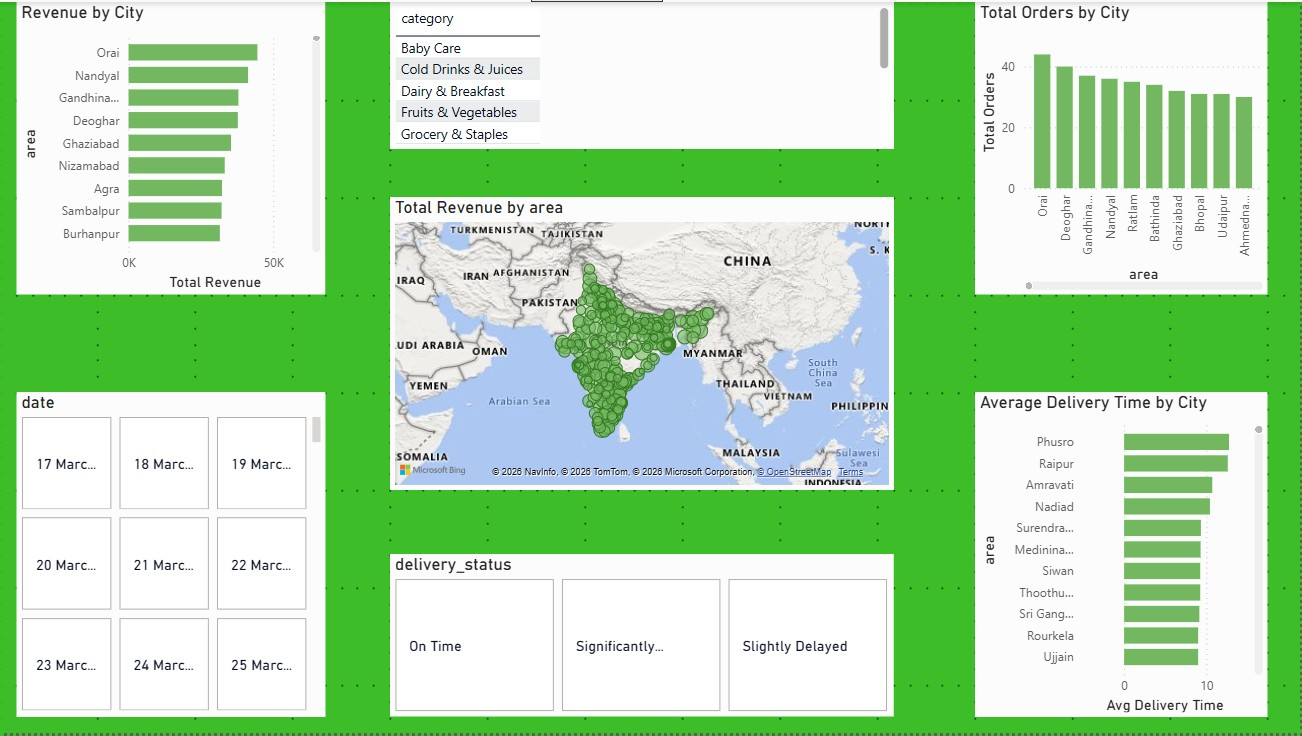

The dashboard page shown, as its layout file describes it:
{"tool":"powerbi","page":{"name":"City Performance","canvas":[1280,720],"ordinal":1},"visuals":[{"type":"barChart","title":"Revenue by City","fields":{"Category":["blinkit_customers.area"],"Y":["Measures (2).Total Revenue"]},"box":[16,0,304,288],"z":0},{"type":"columnChart","title":"Total Orders by City","fields":{"Category":["blinkit_customers.area"],"Y":["Measures (2).Total Orders"]},"box":[960,0,288,288],"z":1},{"type":"barChart","title":"Average Delivery Time by City","fields":{"Category":["blinkit_customers.area"],"Y":["Measures (2).Avg Delivery Time"]},"box":[960,384,288,320],"z":2},{"type":"map","fields":{"Category":["blinkit_customers.area"],"Size":["Measures (2).Total Revenue"]},"box":[384,192,496,288],"z":3},{"type":"advancedSlicerVisual","fields":{"Values":["blinkit_inventory.date"]},"box":[16,384,304,320],"z":4},{"type":"advancedSlicerVisual","fields":{"Values":["blinkit_delivery_performance.delivery_status"]},"box":[384,544,496,160],"z":6},{"type":"tableEx","fields":{"Values":["blinkit_products.category"]},"box":[384,0,496,144],"z":7}]}

Visuals, with their boxes in screenshot pixels (x1, y1, x2, y2), scaled from the page's 1280x720 canvas onto the 1302x736 screenshot:
"Revenue by City" barChart: (x1=16, y1=0, x2=326, y2=294)
"Total Orders by City" columnChart: (x1=976, y1=0, x2=1269, y2=294)
"Average Delivery Time by City" barChart: (x1=976, y1=393, x2=1269, y2=720)
map - blinkit_customers.area x Measures (2).Total Revenue: (x1=391, y1=196, x2=895, y2=491)
advancedSlicerVisual - blinkit_inventory.date: (x1=16, y1=393, x2=326, y2=720)
advancedSlicerVisual - blinkit_delivery_performance.delivery_status: (x1=391, y1=556, x2=895, y2=720)
tableEx - blinkit_products.category: (x1=391, y1=0, x2=895, y2=147)
